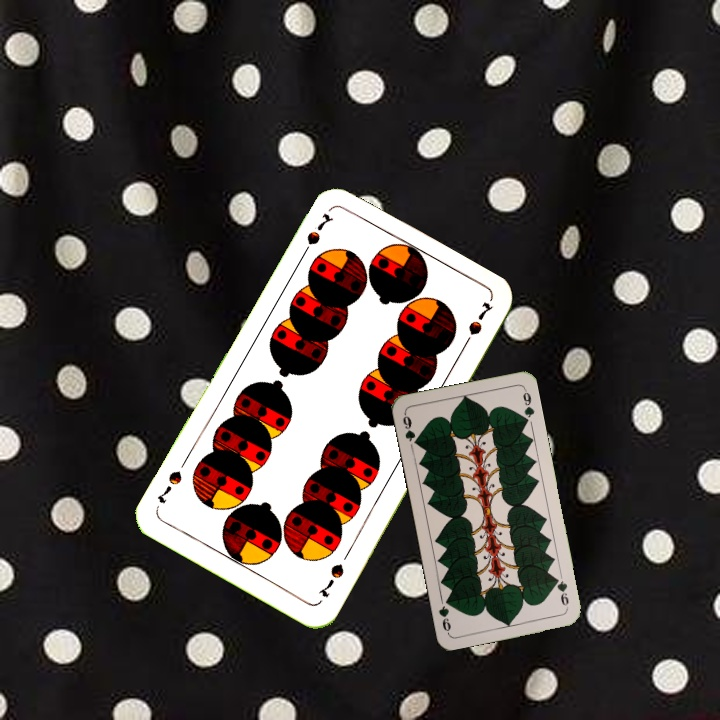G9: (398, 409, 421, 448), (551, 572, 571, 611)
S7: (297, 209, 336, 261), (313, 559, 347, 600)
